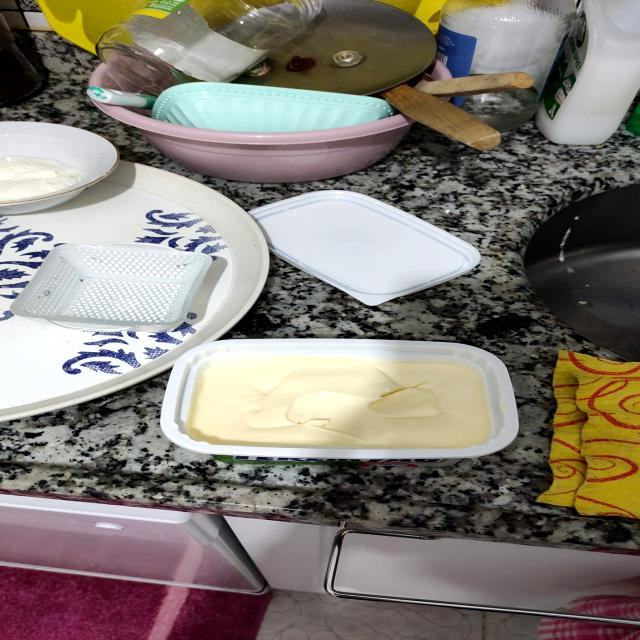margarine: (153, 336, 534, 461)
